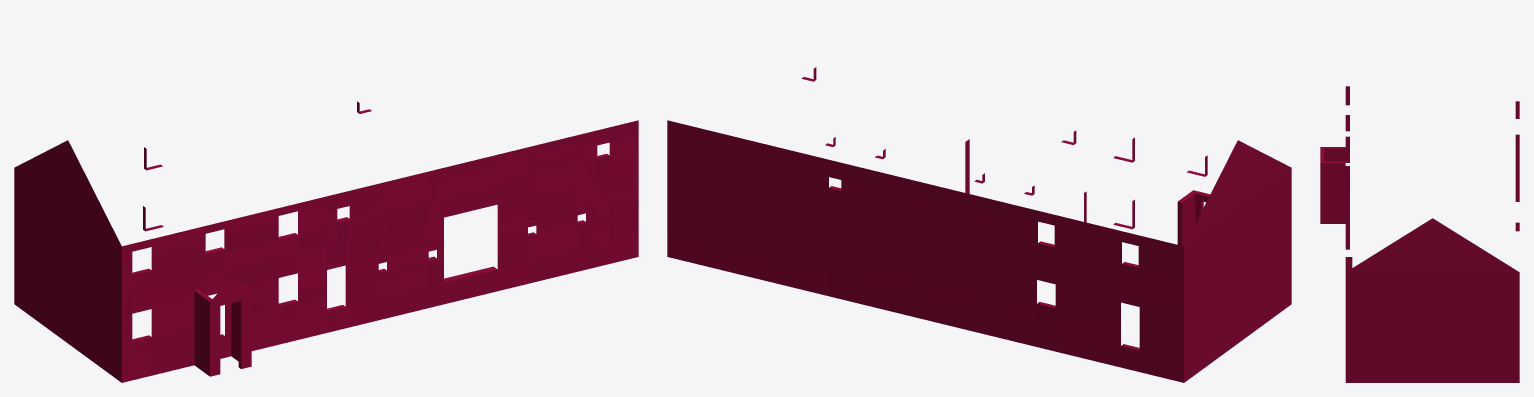
The model's file is SM_Bld_112_Masonry.glb.
3 views of the same model, side by side, from view 1: azimuth 30°, elevation 25°; view 2: azimuth 150°, elevation 25°; view 3: azimuth 270°, elevation 25° (orthographic). The views are drawn at different scales.
Visible parts, largest first — view 1: SM_Bld_112_Masonry; view 2: SM_Bld_112_Masonry; view 3: SM_Bld_112_Masonry.
Part boxes in pixels (x1,y1,x2,y2): SM_Bld_112_Masonry: [14, 101, 638, 382]; SM_Bld_112_Masonry: [667, 67, 1291, 382]; SM_Bld_112_Masonry: [1320, 86, 1519, 382].
Size of the model in its own units: 24.94 by 9.39 by 10.3.
